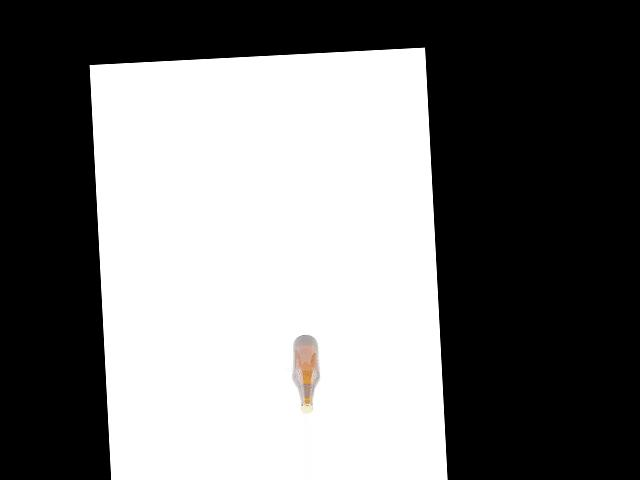beer: (291, 334, 321, 414)
